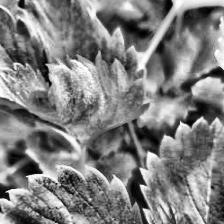Powdery Mildew Leaf: (0, 50, 152, 150)
